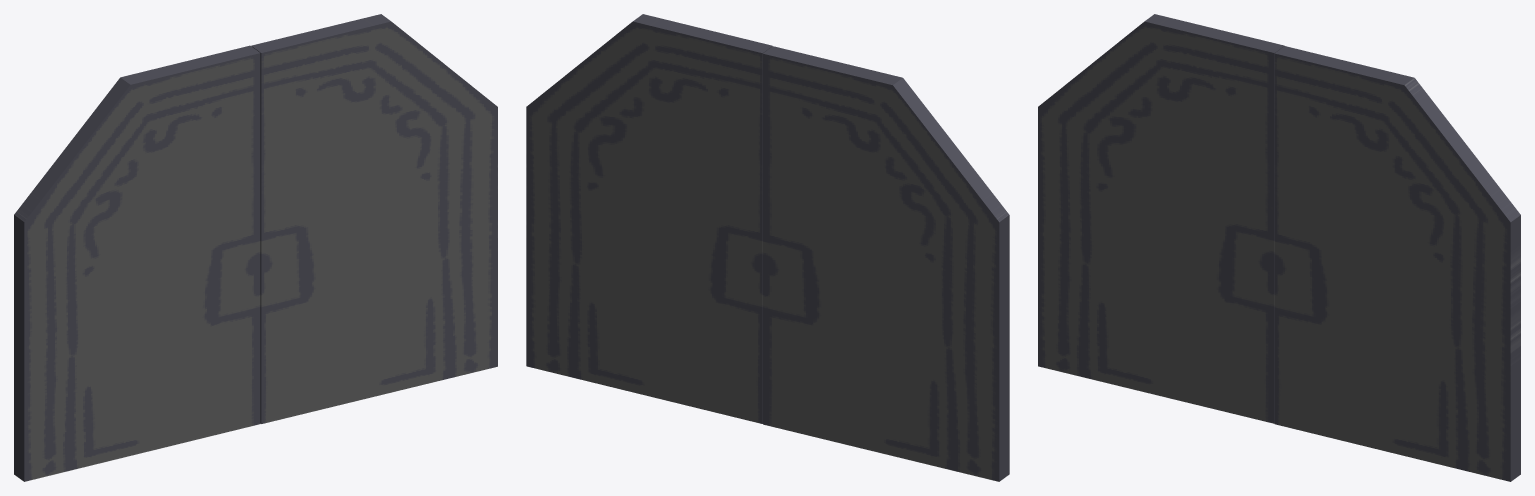
The model's file is Double_Doors.fbx.
3 renders of one model, left to right at view 1: azimuth 30°, elevation 25°; view 2: azimuth 150°, elevation 25°; view 3: azimuth 330°, elevation 25°, orthographic.
Parts seen in each view (by area): view 1: Slide_Up_Door.001, Slide_Up_Door.002; view 2: Slide_Up_Door.001, Slide_Up_Door.002; view 3: Slide_Up_Door.002, Slide_Up_Door.001.
Boxes of the visible parts, x1=… form: Slide_Up_Door.001: x1=14, y1=45, x2=260, y2=481; Slide_Up_Door.002: x1=251, y1=14, x2=497, y2=423; Slide_Up_Door.001: x1=763, y1=46, x2=1009, y2=481; Slide_Up_Door.002: x1=526, y1=14, x2=772, y2=423; Slide_Up_Door.002: x1=1274, y1=46, x2=1520, y2=481; Slide_Up_Door.001: x1=1038, y1=14, x2=1284, y2=423.
Bounding box in the file's own units: 8.01 × 6 × 0.3145.
Materials: 1 (1 with a texture image).
